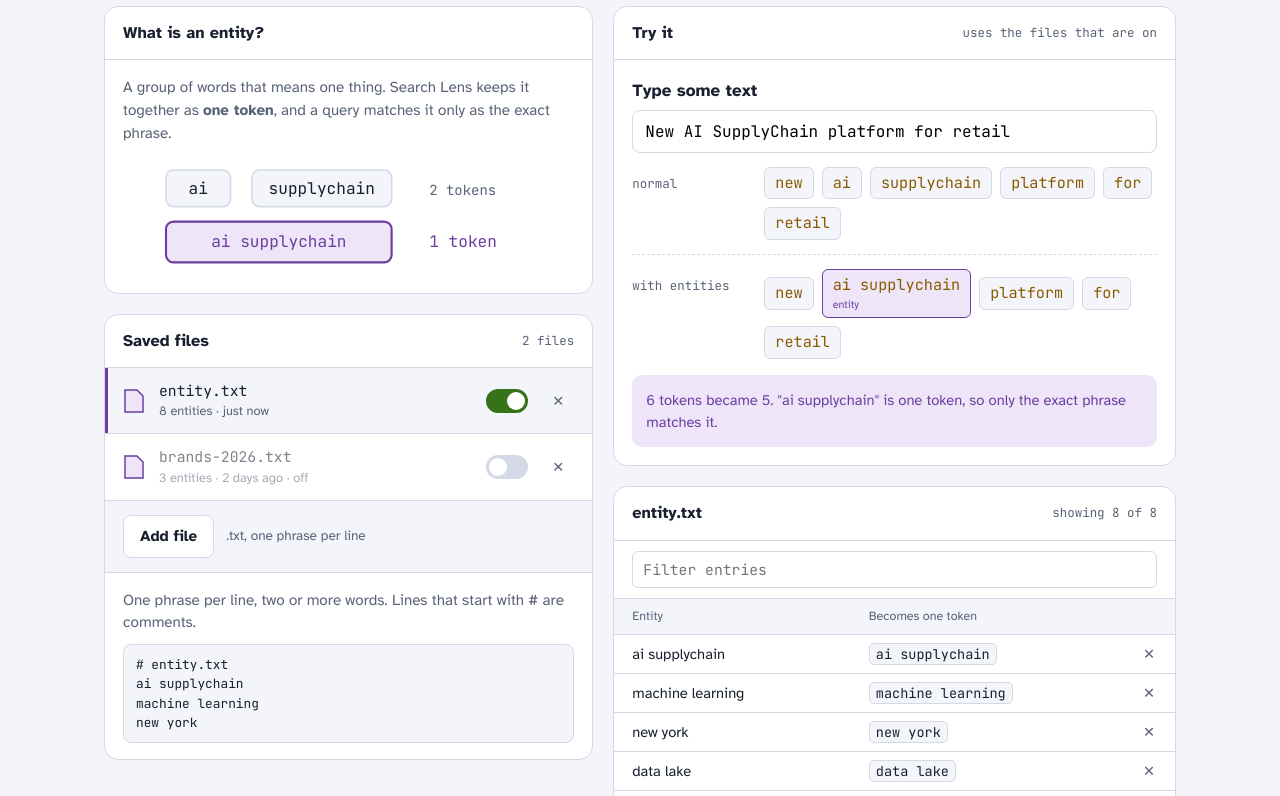
Test: Word lists page › R2.3 turning a file off keeps it and the "try it" box stops using it
This screenshot has width=1280, height=796.
(page scrolled)
Expected: the text "6 tokens became 5." is shown, x1=646 y1=391 x2=1126 y2=431
Click the switch named "Use entity.txt": coordinates (507, 401) x1=486 y1=389 x2=528 y2=413
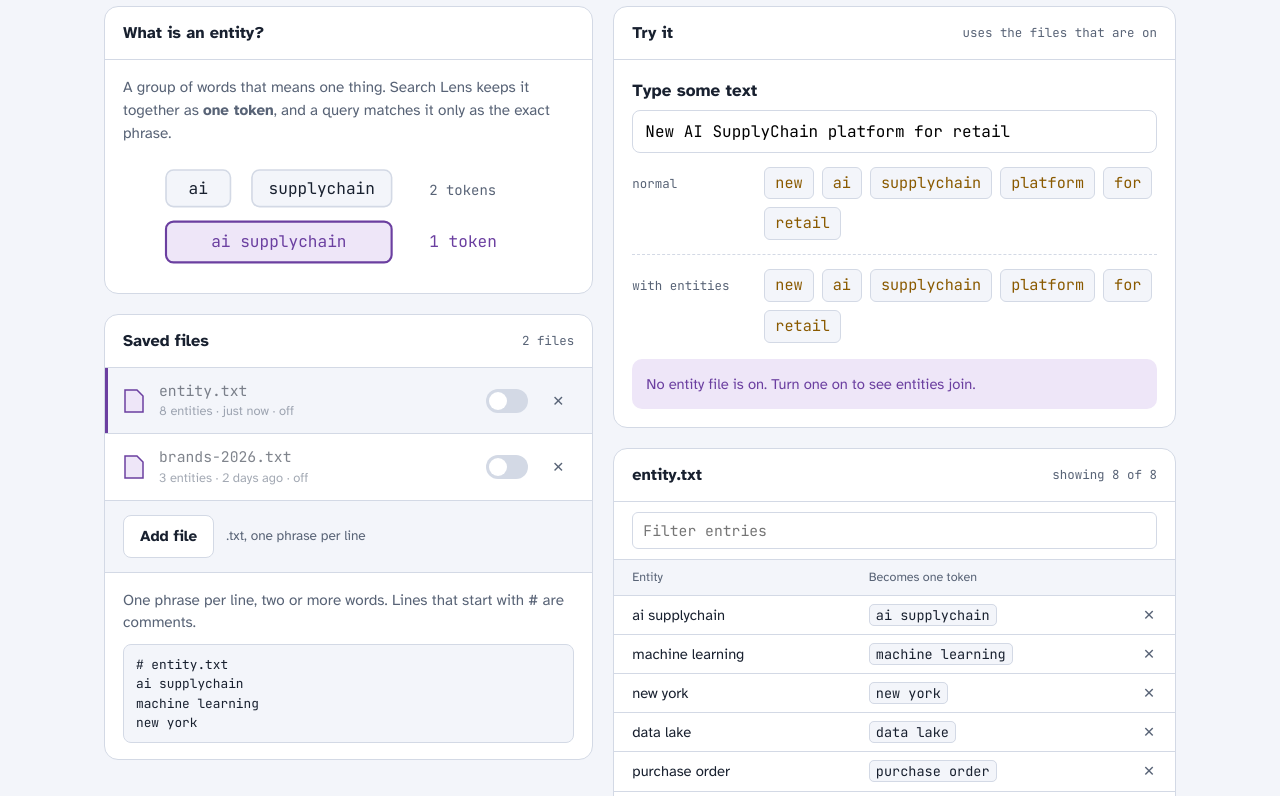
Expected: the text "8 entities · just now · off" is shown 2 times, x1=159 y1=403 x2=294 y2=419; x1=159 y1=470 x2=308 y2=486
Expected: the text "No entity file is on. Turn one on to see entities join." is shown, x1=632 y1=359 x2=1157 y2=409
